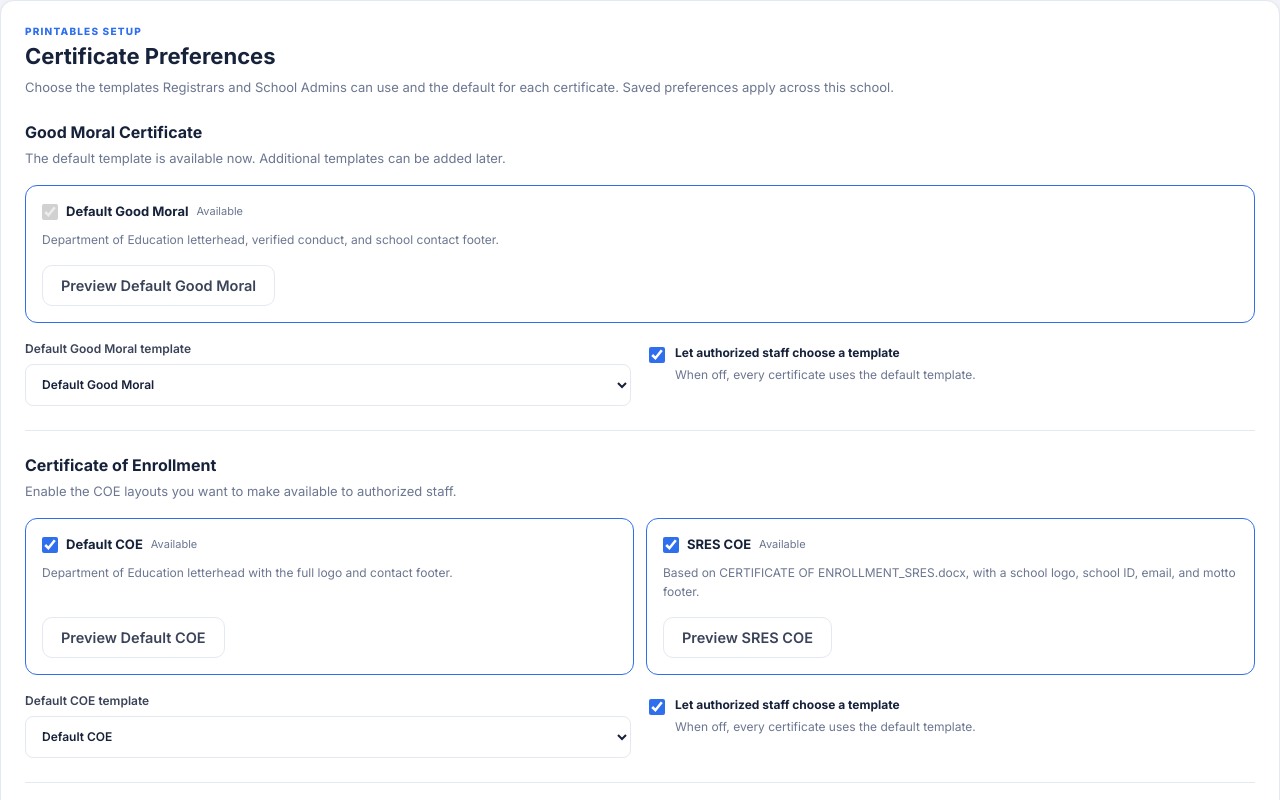
Test: certificate preferences administration › keeps at least one template enabled and persists an enabled replacement default
Expected: the checkbox labelled "Default Good Moral Available" is disabled, [42,204,58,220]
What coordinates should you click on to do the following:
click the checkbox labelled "Default COE Available"
I would click on:
 (50, 545)
Its box is [42,537,58,553].
(page scrolled)
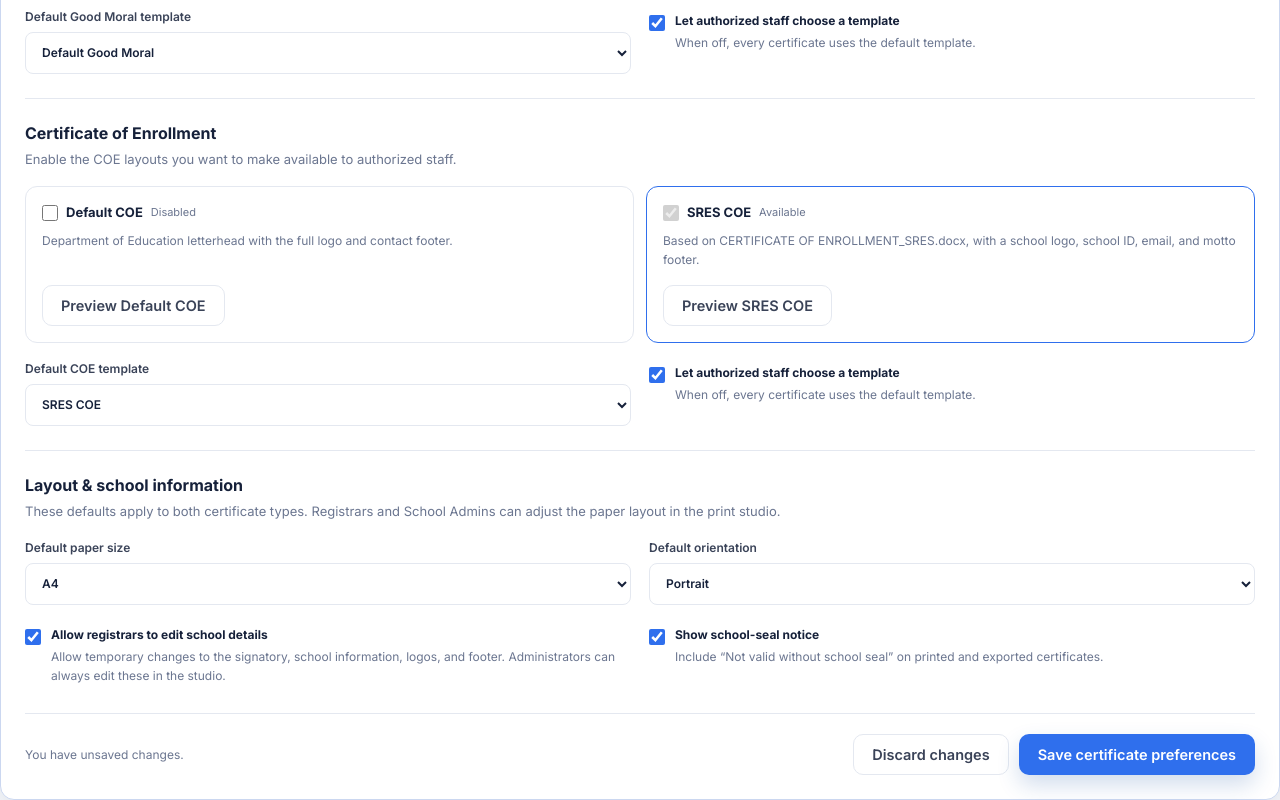
Expected: the dropdown labelled "Default COE template" shows "SRES COE", [25,384,631,426]
Expected: the checkbox labelled "SRES COE Available" is disabled, [663,205,679,221]
What coordinates should you click on to do the following:
click the 6th checkbox
I would click on:
 (657, 637)
Its box is [649,629,665,645].
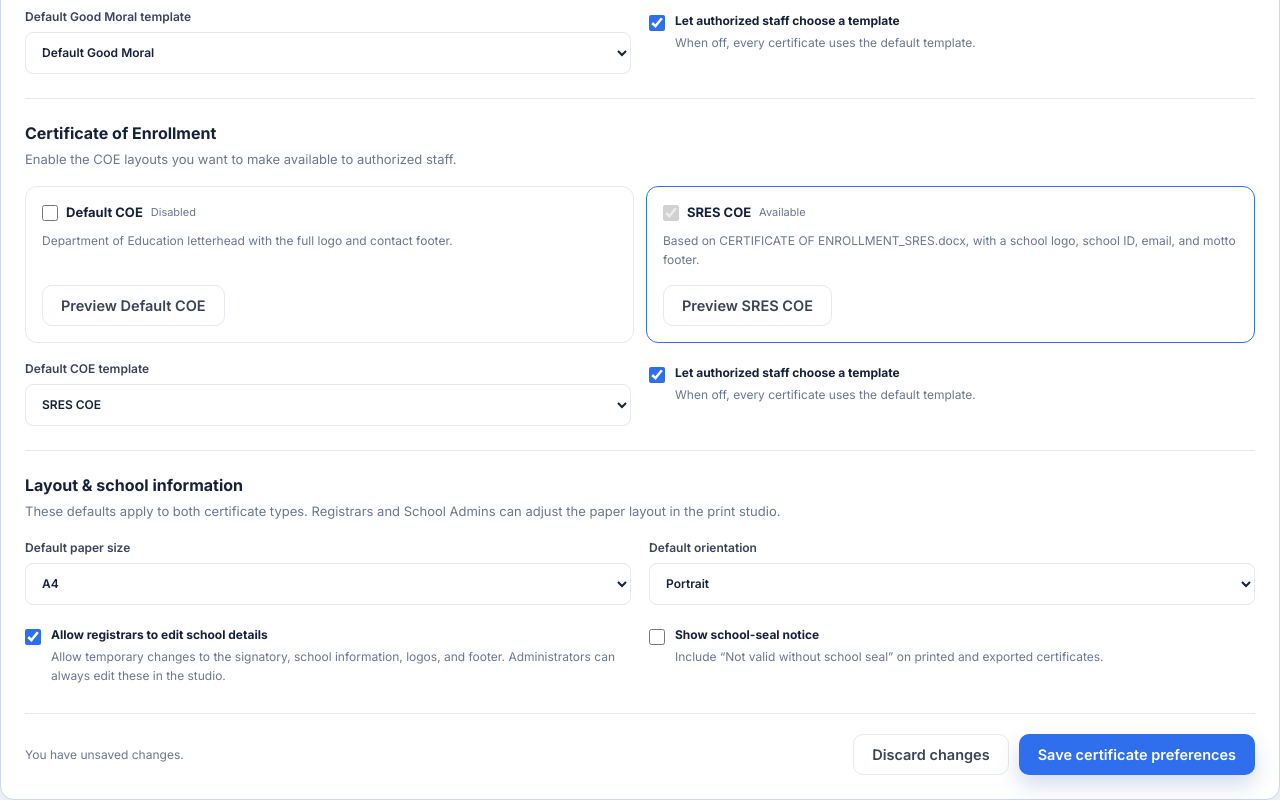
What coordinates should you click on to do the following:
click the button "Save certificate preferences"
I would click on:
 (1137, 755)
Its box is [1019,734,1255,775].
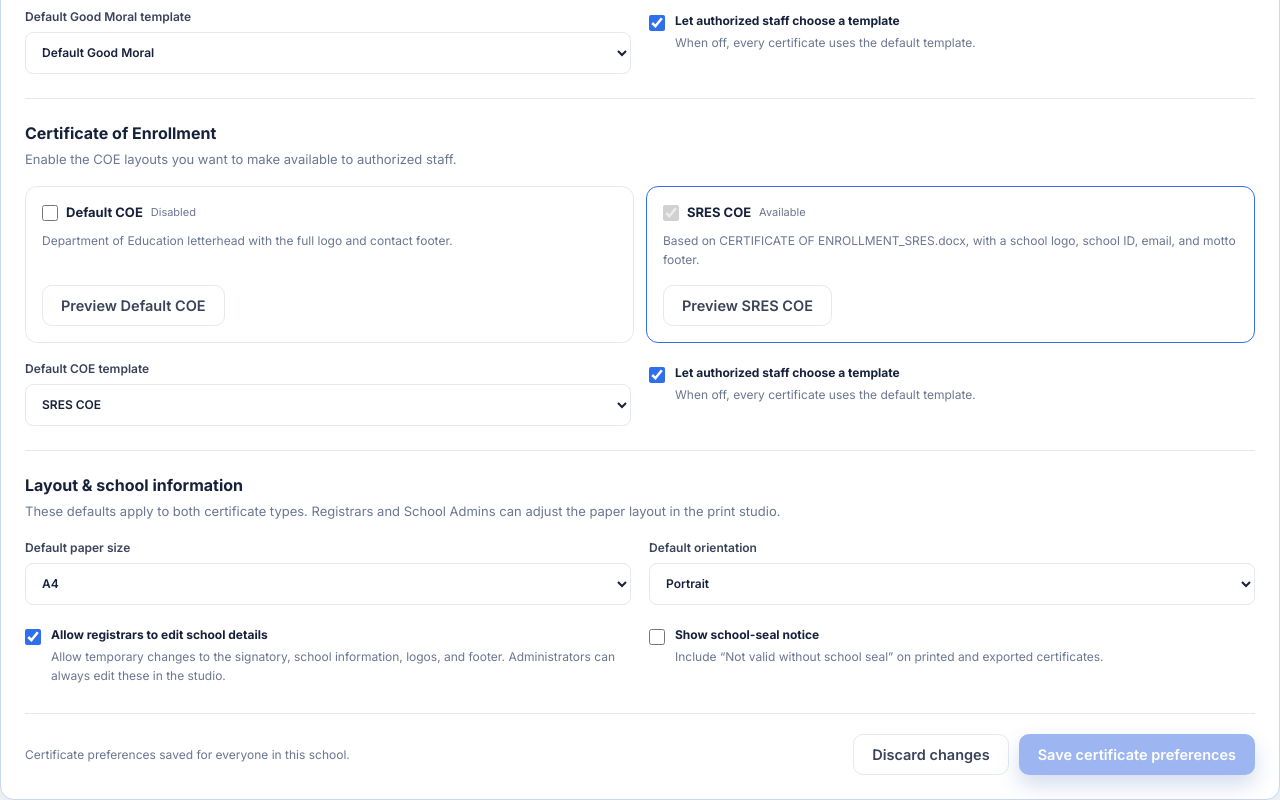
Expected: the text "saved for everyone in this school" is shown, [25,747,350,762]
Expected: the button "Save certificate preferences" is disabled, [1019,734,1255,775]
